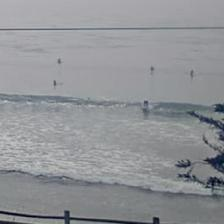surfer: (143, 100, 149, 107), (190, 70, 194, 78), (57, 58, 62, 64), (149, 66, 154, 72), (52, 80, 56, 87)
